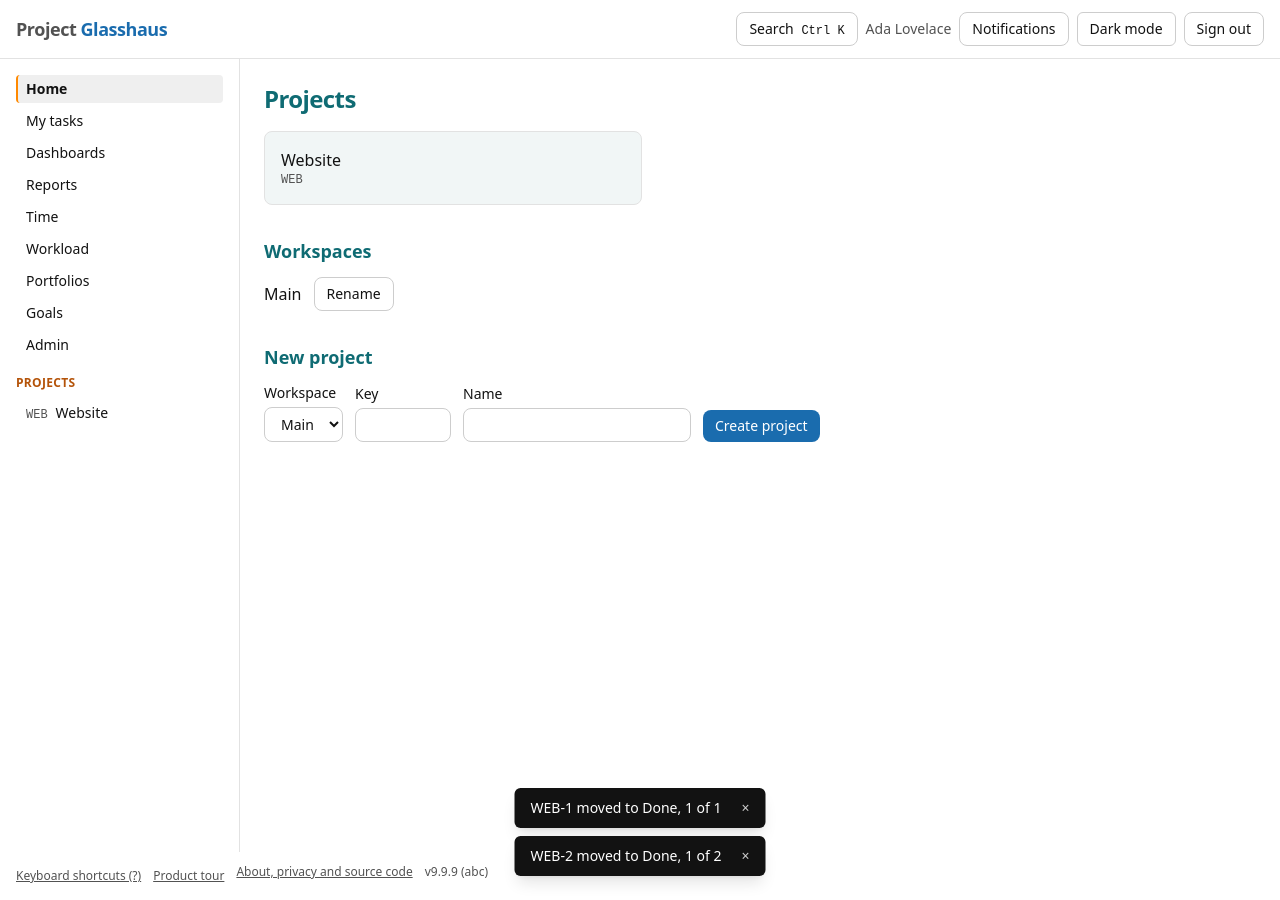
Scenario: controls › Escape closes the notifications list and returns focus to its button
Click the button "Notifications" at (1014, 29), box [959,12,1069,46]
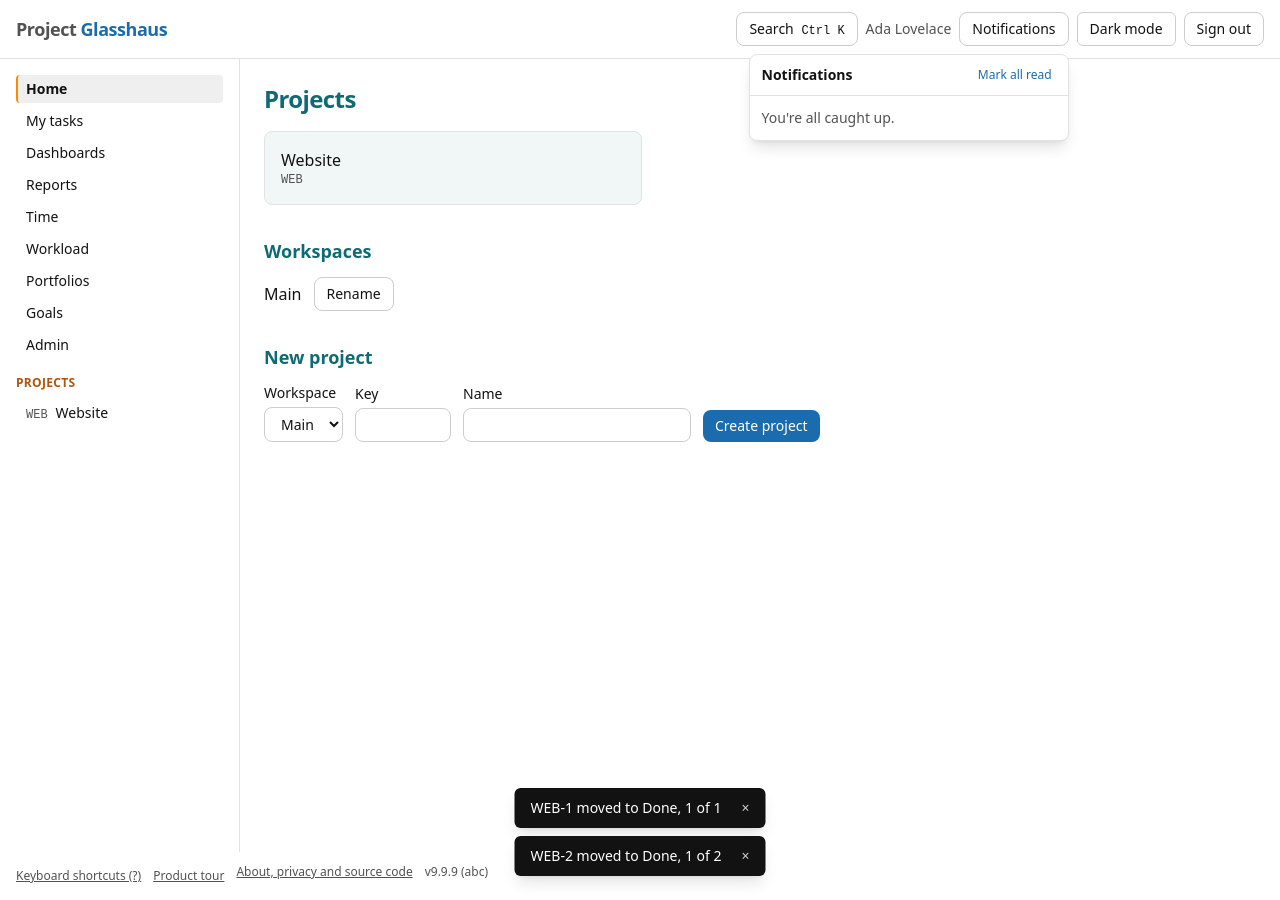
Press Escape
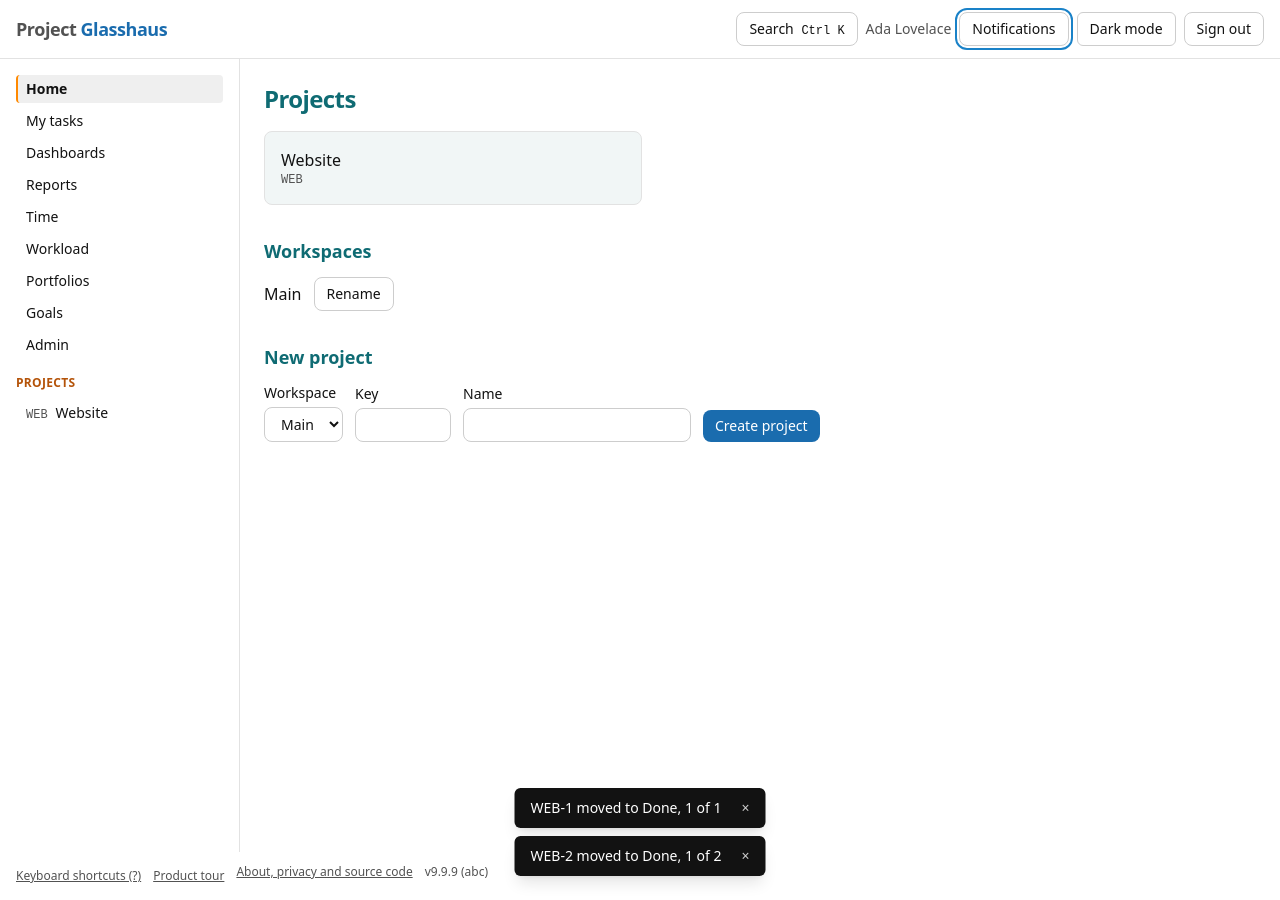
Result: the text "Notifications Mark all read You're all caught up." is gone
